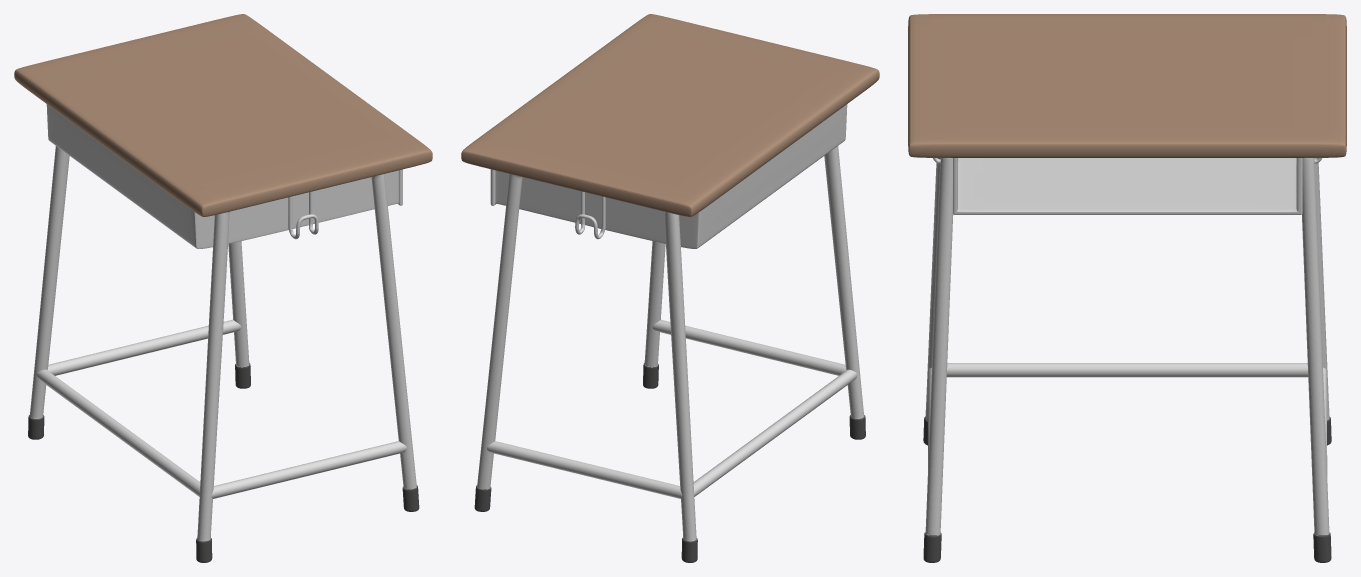
File: school_desk.fbx
3 renders of one model, left to right at view 1: azimuth 30°, elevation 25°; view 2: azimuth 150°, elevation 25°; view 3: azimuth 270°, elevation 25°, orthographic. The views are drawn at different scales.
Parts seen in each view (by area): view 1: 天板, 足, 引き出し, 横棒, 奧棒, フック; view 2: 天板, 足, 引き出し, 横棒, 奧棒, フック; view 3: 天板, 引き出し, 足, 奧棒.
Boxes of the visible parts, <box> form: 天板: <box>14,14,432,216</box>; 足: <box>28,146,419,562</box>; 引き出し: <box>46,104,402,248</box>; 横棒: <box>47,319,406,498</box>; 奧棒: <box>36,369,200,496</box>; フック: <box>288,191,318,239</box>; 天板: <box>461,14,879,216</box>; 足: <box>474,146,865,562</box>; 引き出し: <box>490,104,847,248</box>; 横棒: <box>487,319,846,498</box>; 奧棒: <box>693,369,857,496</box>; フック: <box>575,191,605,239</box>; 天板: <box>908,14,1346,157</box>; 引き出し: <box>953,158,1302,214</box>; 足: <box>923,158,1331,562</box>; 奧棒: <box>946,363,1308,377</box>.
Bounding box in the file's own units: 2.14 × 3.22 × 3.02.
